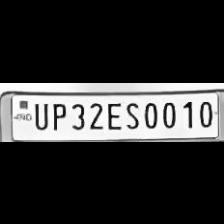0: (141, 98, 159, 128), (159, 98, 177, 128), (196, 97, 214, 127)
1: (178, 98, 195, 128)
2: (86, 98, 104, 130)
3: (68, 98, 86, 130)
E: (103, 99, 121, 129)
P: (47, 100, 66, 130)
S: (123, 99, 141, 129)
U: (30, 98, 48, 130)
